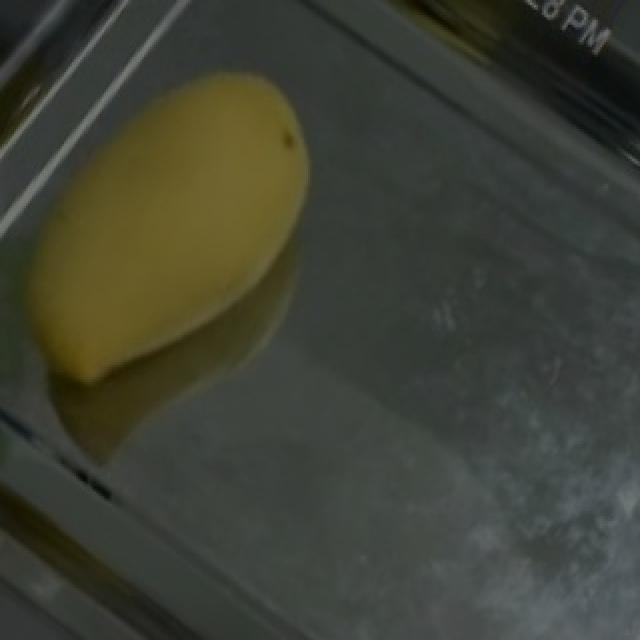fruit: (22, 12, 400, 407)
